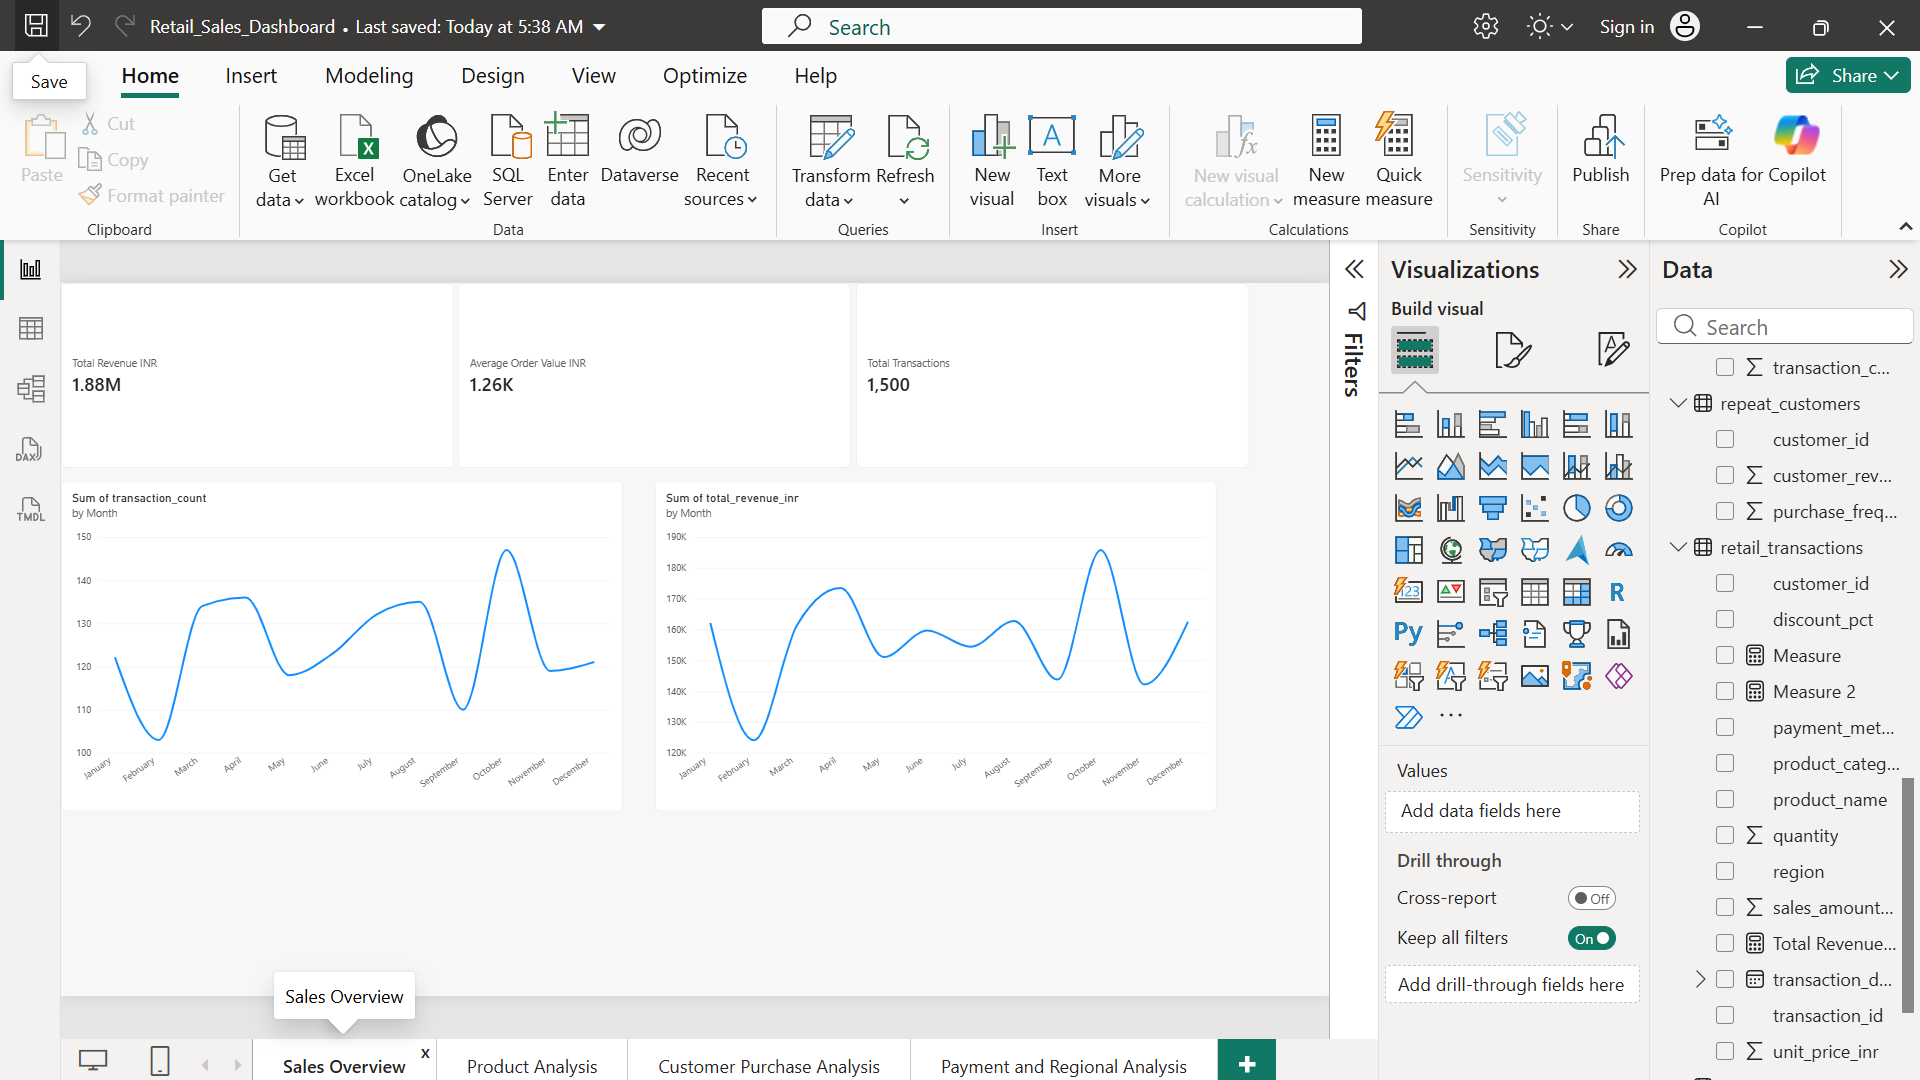

Layout of this report page (visuals, bound fields, positions):
{"tool":"powerbi","page":{"name":"Sales Overview","canvas":[1920,1080],"ordinal":0},"visuals":[{"type":"cardVisual","fields":{"Data":["Sum(overall_sales_kpis.total_revenue_inr)","Sum(overall_sales_kpis.average_transaction_value_inr)","best_selling_products.Transaction Count Exact"]},"box":[0,0,1920.1,300.1],"z":0},{"type":"pieChart","fields":{"Category":["monthly_sales.sales_month.Variation.Date Hierarchy.Month"],"Y":["Sum(monthly_sales.transaction_count)"]},"box":[0,300.1,930.7,780.6],"z":1000},{"type":"donutChart","fields":{"Category":["monthly_sales.sales_month.Variation.Date Hierarchy.Month"],"Y":["Sum(monthly_sales.total_revenue_inr)"]},"box":[930.7,300.1,989.5,780.6],"z":2000}]}

Visuals, with their boxes on the page's 1920x1080 design canvas (x1, y1, x2, y2). These are canvas units, not pixel positions in the 1920x1080 screenshot, which may show the page scaled, cropped or inside an application window:
cardVisual - Sum(overall_sales_kpis.total_revenue_inr) x Sum(overall_sales_kpis.average_transaction_value_inr): [0,0,1920,300]
pieChart - monthly_sales.sales_month.Variation.Date Hierarchy.Month x Sum(monthly_sales.transaction_count): [0,300,931,1081]
donutChart - monthly_sales.sales_month.Variation.Date Hierarchy.Month x Sum(monthly_sales.total_revenue_inr): [931,300,1920,1081]
